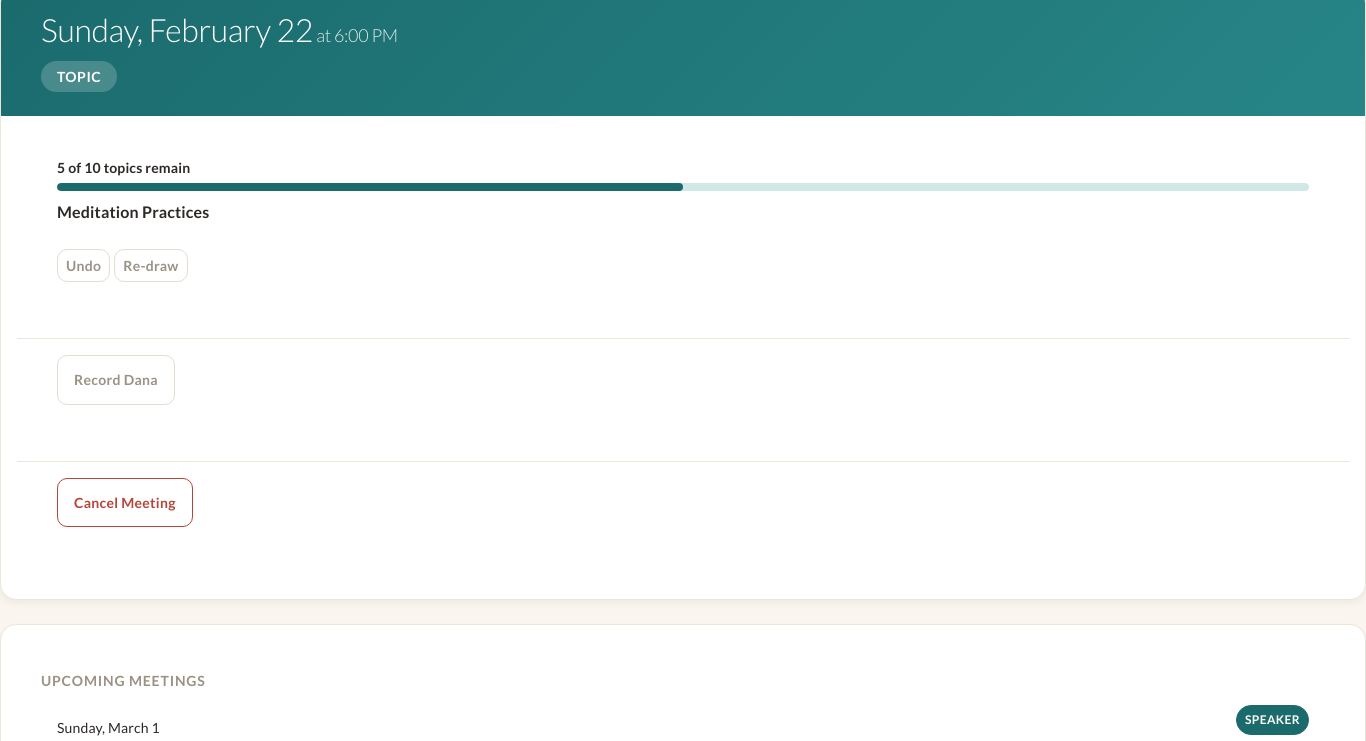
Test case: Landing › format overrides › shows Reset to rotation option when override exists
This screenshot has width=1366, height=741.
Click the button with aria-label "Change format for Sunday, March 1" at point(1272, 720), box [1236, 705, 1309, 735]
(page scrolled)
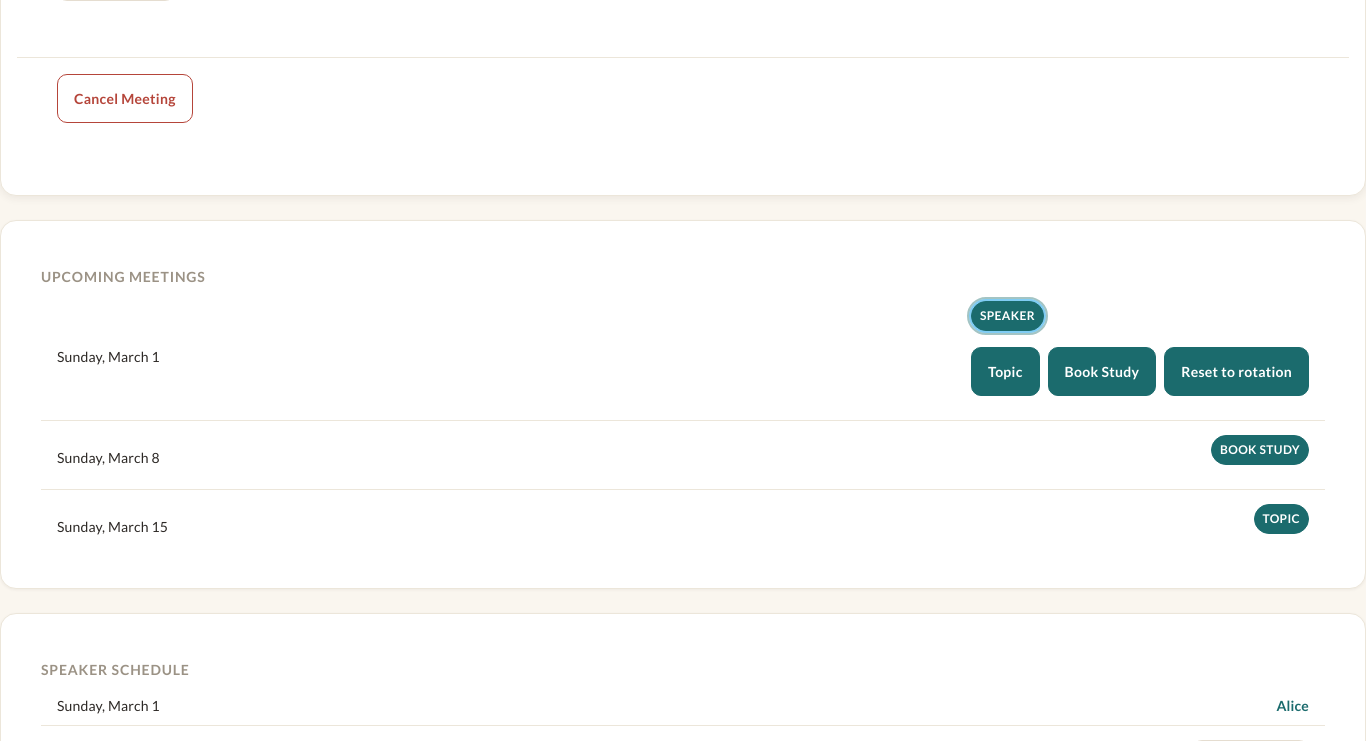
Check: the menu item "Reset to rotation" is shown, box [1164, 347, 1309, 396]
